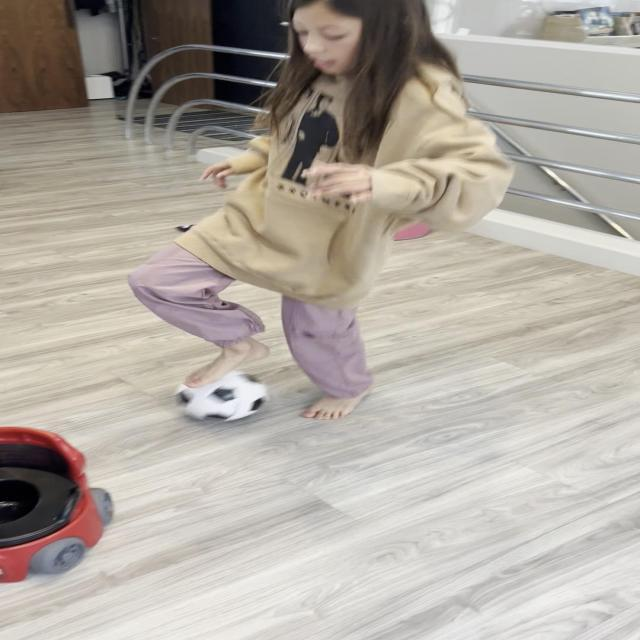Soccer Ball: (176, 372, 270, 422)
